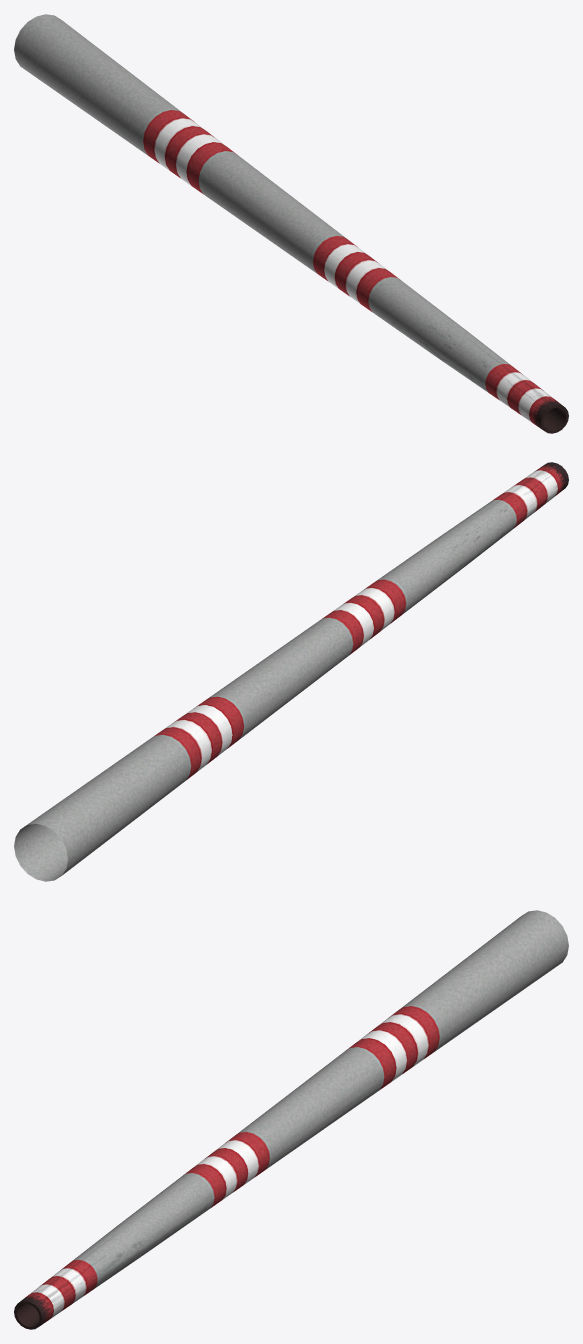
The model's file is chimney_big.obj.
The picture shows the model from 3 angles, top to bottom: view 1: azimuth 30°, elevation 25°; view 2: azimuth 150°, elevation 25°; view 3: azimuth 330°, elevation 25°; orthographic projection.
Parts seen in each view (by area): view 1: chimney_big; view 2: chimney_big; view 3: chimney_big.
Boxes of the visible parts, x1=… form: chimney_big: x1=14, y1=14, x2=568, y2=433; chimney_big: x1=14, y1=462, x2=568, y2=881; chimney_big: x1=14, y1=910, x2=568, y2=1329.
Bounding box in the file's own units: 6.08 × 5.98 × 100.
